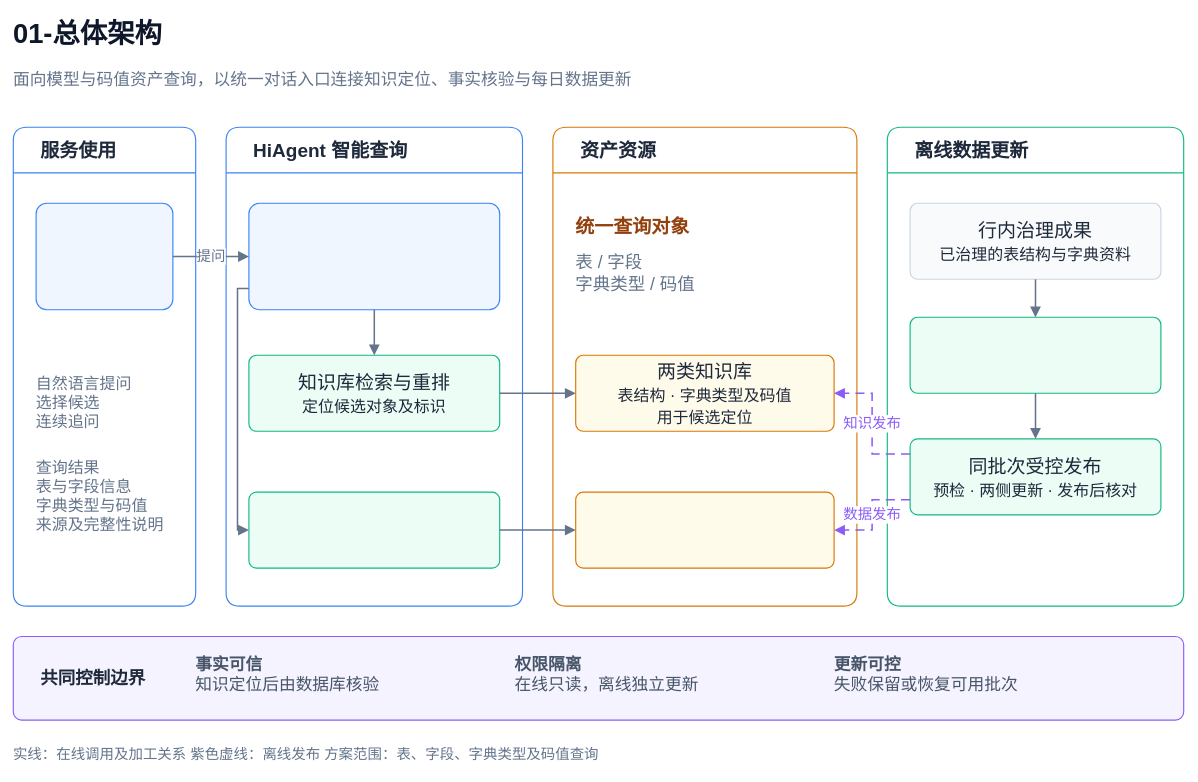
This 1198x782 diagram has some shape labels left out. The centre of each missing label's shape, as x and y in pixels:
Python 校验与加工 Markdown 知识文档 数据库导入数据: the point at 1035,355
业务人员 数据开发人员 资产管理人员: the point at 104,256
数据库查询工具 核验对象 · 获取精准明细: the point at 374,529
数据资源智能体 单 Agent · 统一查询 SKILL 对象确认 · 工具选择 · 结果组织: the point at 374,256
资产查询数据库 表字段元数据 · 字典码值 作为在线事实核验依据: the point at 704,529
